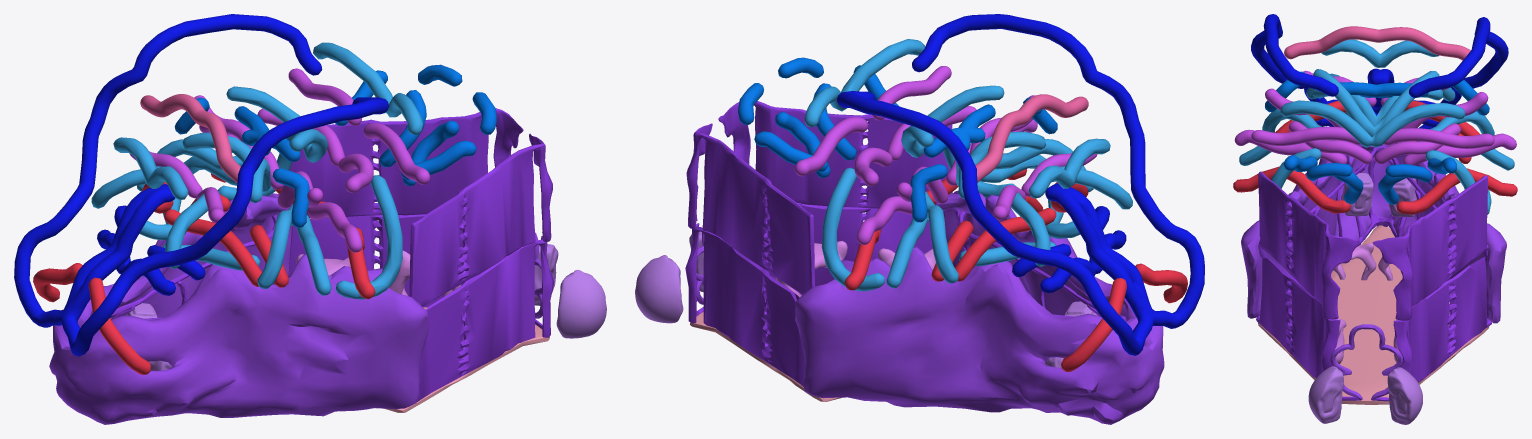
Rendered from portalruins.glb.
The picture shows the model from 3 angles, left to right: view 1: azimuth 30°, elevation 25°; view 2: azimuth 150°, elevation 25°; view 3: azimuth 270°, elevation 25°; orthographic projection. The views are drawn at different scales.
Visible parts, largest first — view 1: Retopo_Layer_1.015, Retopo_Layer_17.006, Retopo_Layer_13.003; view 2: Retopo_Layer_1.015, Retopo_Layer_17.006, Retopo_Layer_13.003; view 3: Retopo_Layer_1.015, Retopo_Layer_17.006, Retopo_Layer_13.003.
Part boxes in pixels (bbox=[...]): Retopo_Layer_1.015: bbox=[49, 108, 554, 424]; Retopo_Layer_17.006: bbox=[14, 14, 496, 374]; Retopo_Layer_13.003: bbox=[125, 244, 606, 370]; Retopo_Layer_1.015: bbox=[685, 101, 1164, 424]; Retopo_Layer_17.006: bbox=[738, 14, 1204, 371]; Retopo_Layer_13.003: bbox=[635, 231, 1098, 367]; Retopo_Layer_1.015: bbox=[1241, 143, 1506, 404]; Retopo_Layer_17.006: bbox=[1233, 14, 1517, 214]; Retopo_Layer_13.003: bbox=[1308, 172, 1450, 424].
Bounding box in the file's own units: 66.53 × 38.6 × 36.67.
